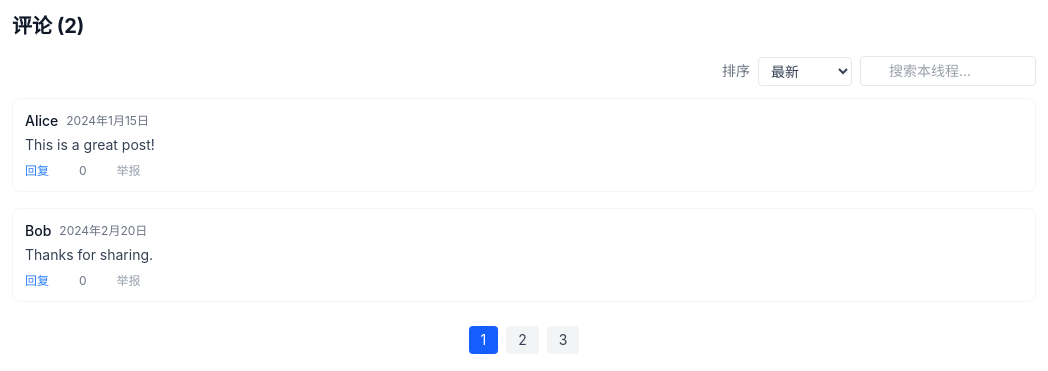
Test case: CommentList › Comment likes (DEC-092, TASK-158) › renders the like count for each comment and likes on click
Check: the text with class "like-count" below "This is a great post!" reads "0", box [79,163,87,178]
Click the button with class "comment-like" below "This is a great post!": (74, 171) [61,163,87,179]
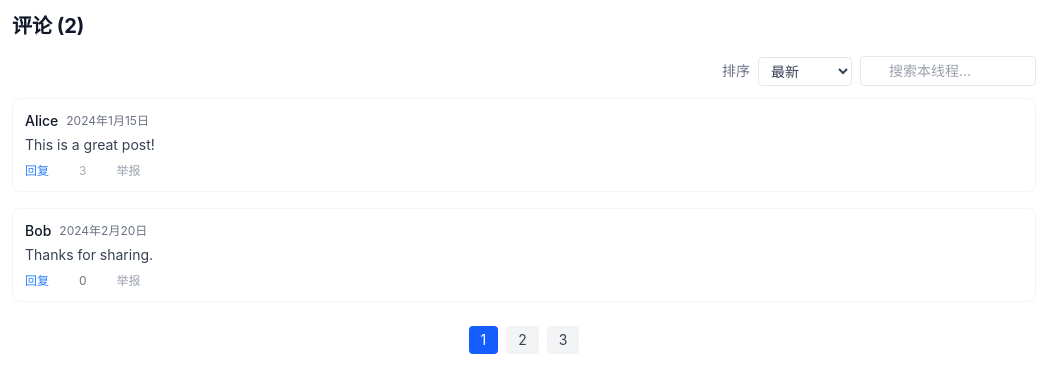
Check: the text with class "like-count" reads "3", box [79,163,86,178]
